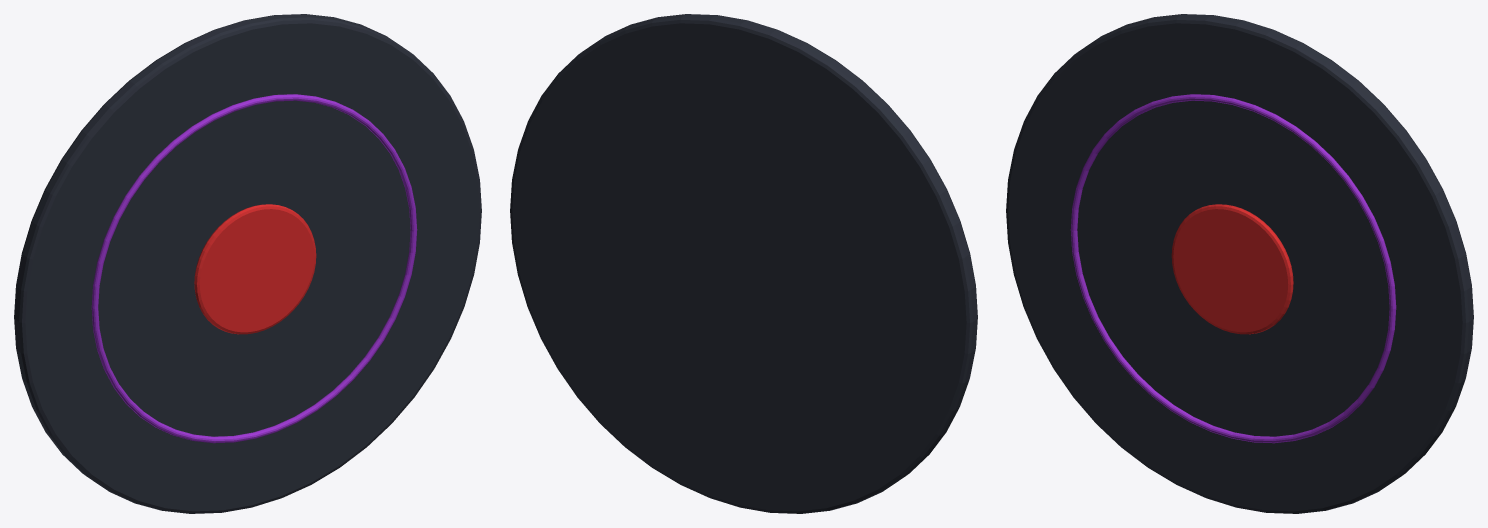
File: vinyle-premiere-edition.glb
3 renders of one model, left to right at view 1: azimuth 30°, elevation 25°; view 2: azimuth 150°, elevation 25°; view 3: azimuth 330°, elevation 25°, orthographic.
Visible parts, largest first — view 1: Disque, Label, Sillon; view 2: Disque; view 3: Disque, Label, Sillon.
Boxes of the visible parts, <box> form: Disque: <box>14,14,481,513</box>; Label: <box>194,204,316,334</box>; Sillon: <box>91,94,417,443</box>; Disque: <box>510,14,977,513</box>; Disque: <box>1006,14,1473,513</box>; Label: <box>1171,204,1293,334</box>; Sillon: <box>1070,94,1396,443</box>.
Bounding box in the file's own units: 2.9 × 2.9 × 0.15.
